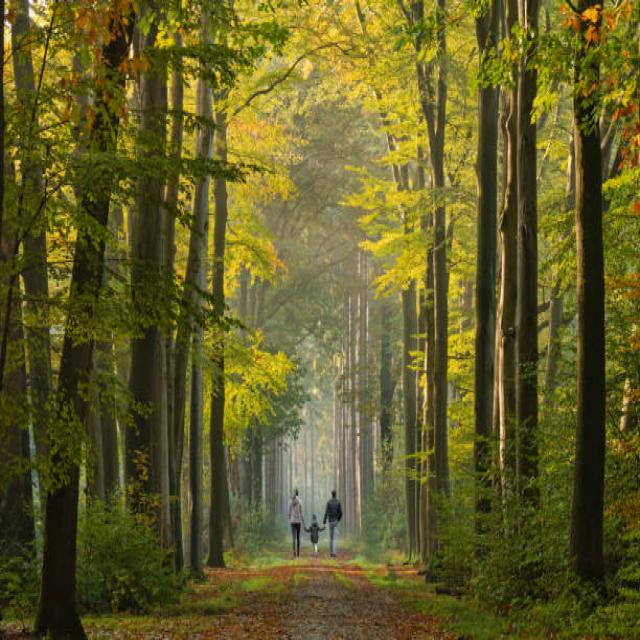Forest: (0, 0, 640, 640)
Militant: (272, 478, 320, 574), (310, 478, 352, 571)
